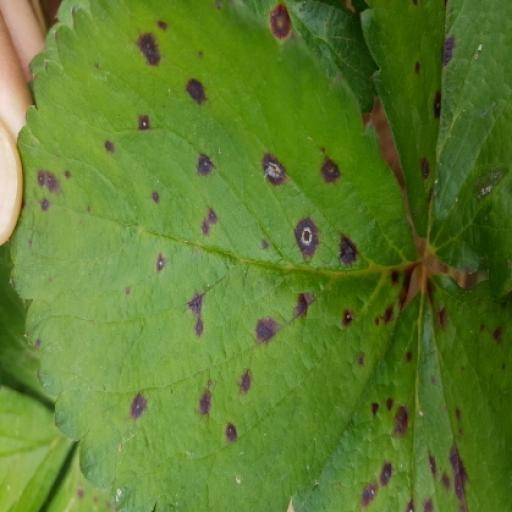Leaf Spot: (6, 0, 419, 511), (293, 272, 511, 511), (359, 0, 511, 299), (230, 0, 380, 113)
